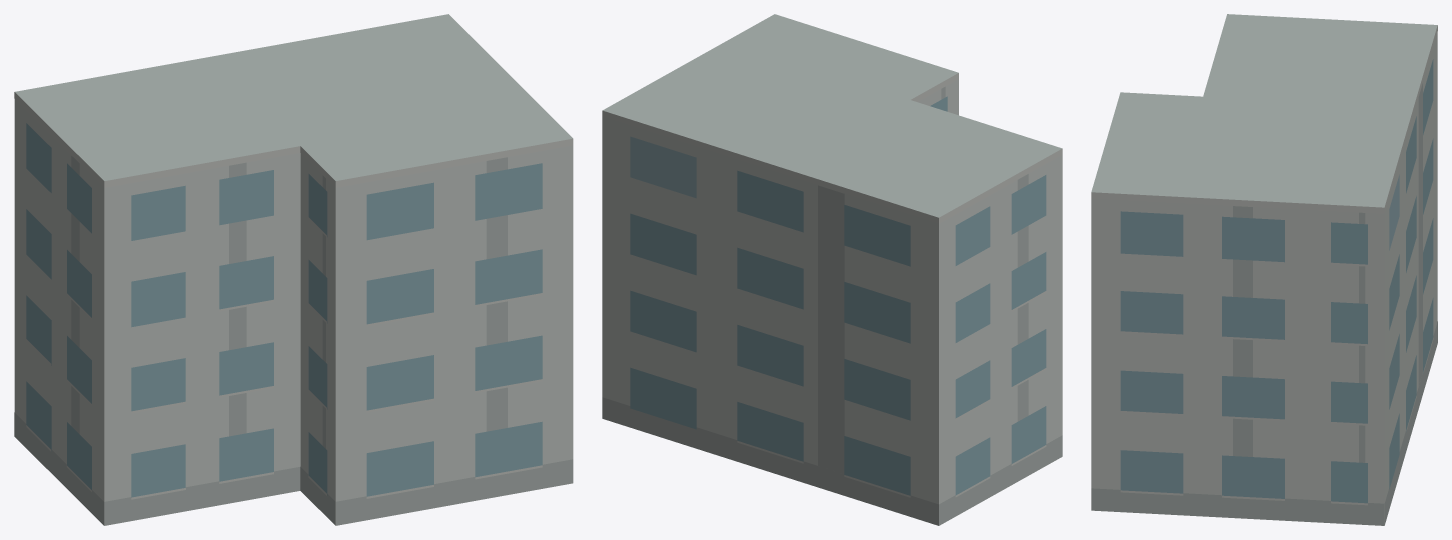
The model's file is residential-bea78e89-1894-42d3-accb-e069b0ece45b.glb.
The picture shows the model from 3 angles, left to right: view 1: azimuth 30°, elevation 25°; view 2: azimuth 150°, elevation 25°; view 3: azimuth 270°, elevation 25°; orthographic projection. The views are drawn at different scales.
Parts seen in each view (by area): view 1: residential-bea78e89-1894-42d3-accb-e069b0ece45b.tmp; view 2: residential-bea78e89-1894-42d3-accb-e069b0ece45b.tmp; view 3: residential-bea78e89-1894-42d3-accb-e069b0ece45b.tmp.
Part boxes in pixels (x1,y1,x2,y2): residential-bea78e89-1894-42d3-accb-e069b0ece45b.tmp: (14, 14, 573, 525); residential-bea78e89-1894-42d3-accb-e069b0ece45b.tmp: (602, 14, 1062, 525); residential-bea78e89-1894-42d3-accb-e069b0ece45b.tmp: (1091, 14, 1437, 525).
Bounding box in the file's own units: 15.92 × 12.2 × 12.05.
